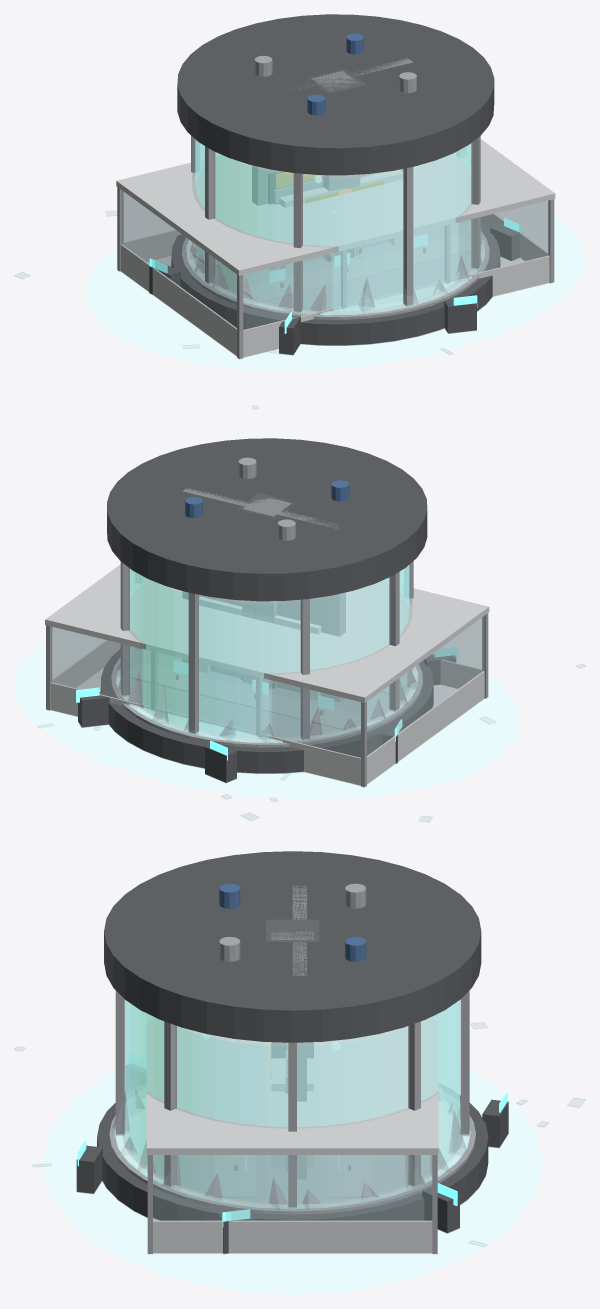
Rendered from lab.glb.
The picture shows the model from 3 angles, top to bottom: view 1: azimuth 30°, elevation 25°; view 2: azimuth 150°, elevation 25°; view 3: azimuth 270°, elevation 25°; orthographic projection. The views are drawn at different scales.
Parts seen in each view (by area): view 1: lab_tank, lab_office, lab_tank_fluid, lab_tank_glass, lab_tank_broken, lab_pillar, lab_arch, lab_elevator, lab_wall; view 2: lab_tank, lab_office, lab_tank_fluid, lab_tank_glass, lab_tank_broken, lab_wall, lab_pillar, lab_arch; view 3: lab_tank, lab_office, lab_tank_fluid, lab_tank_broken, lab_tank_glass, lab_wall, lab_pillar, lab_arch.
Boxes of the visible parts, x1,y1,x2,y2 form: lab_tank: (149, 14, 521, 355); lab_office: (116, 139, 555, 359); lab_tank_fluid: (195, 139, 471, 310); lab_tank_glass: (192, 137, 472, 310); lab_tank_broken: (14, 210, 585, 409); lab_pillar: (307, 68, 365, 261); lab_arch: (279, 170, 402, 272); lab_elevator: (268, 169, 402, 268); lab_wall: (252, 58, 412, 205); lab_tank: (76, 438, 457, 783); lab_office: (45, 564, 489, 787); lab_tank_fluid: (130, 565, 409, 738); lab_tank_glass: (128, 563, 411, 738); lab_tank_broken: (14, 642, 585, 822); lab_wall: (182, 488, 345, 701); lab_pillar: (237, 493, 296, 688); lab_arch: (199, 597, 320, 699); lab_tank: (76, 851, 508, 1254); lab_office: (146, 1016, 438, 1254); lab_tank_fluid: (125, 1000, 459, 1202); lab_tank_broken: (14, 1022, 585, 1294); lab_tank_glass: (123, 998, 462, 1168); lab_wall: (292, 885, 306, 1178); lab_pillar: (266, 919, 319, 1057); lab_arch: (270, 1048, 313, 1167).
Size of the model in its own units: 18.1 by 7.86 by 16.07.
